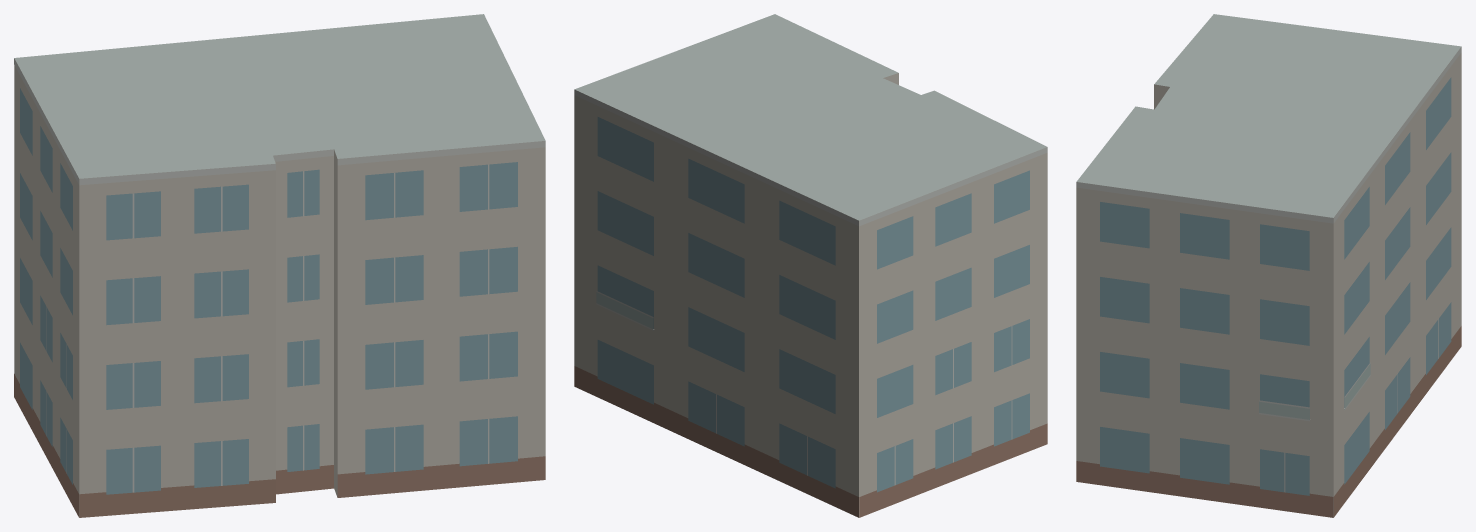
File: survey-upis-32700804.glb
The picture shows the model from 3 angles, left to right: view 1: azimuth 30°, elevation 25°; view 2: azimuth 150°, elevation 25°; view 3: azimuth 270°, elevation 25°; orthographic projection. The views are drawn at different scales.
Visible parts, largest first — view 1: survey-upis-32700804.tmp; view 2: survey-upis-32700804.tmp; view 3: survey-upis-32700804.tmp.
Part boxes in pixels (left/top/right/bottom): survey-upis-32700804.tmp: left=14, top=14, right=545, bottom=517; survey-upis-32700804.tmp: left=574, top=14, right=1047, bottom=517; survey-upis-32700804.tmp: left=1076, top=14, right=1461, bottom=517.
Bounding box in the file's own units: 18.67 × 12.8 × 14.91.
